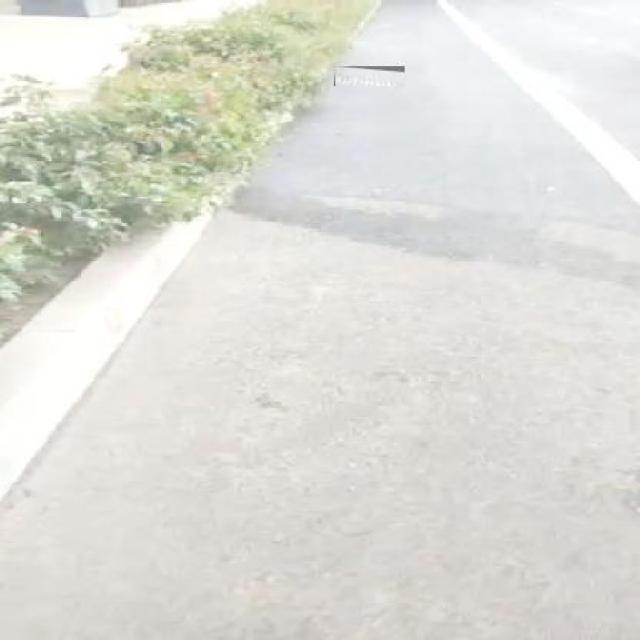Manhole: (334, 66, 406, 86)
